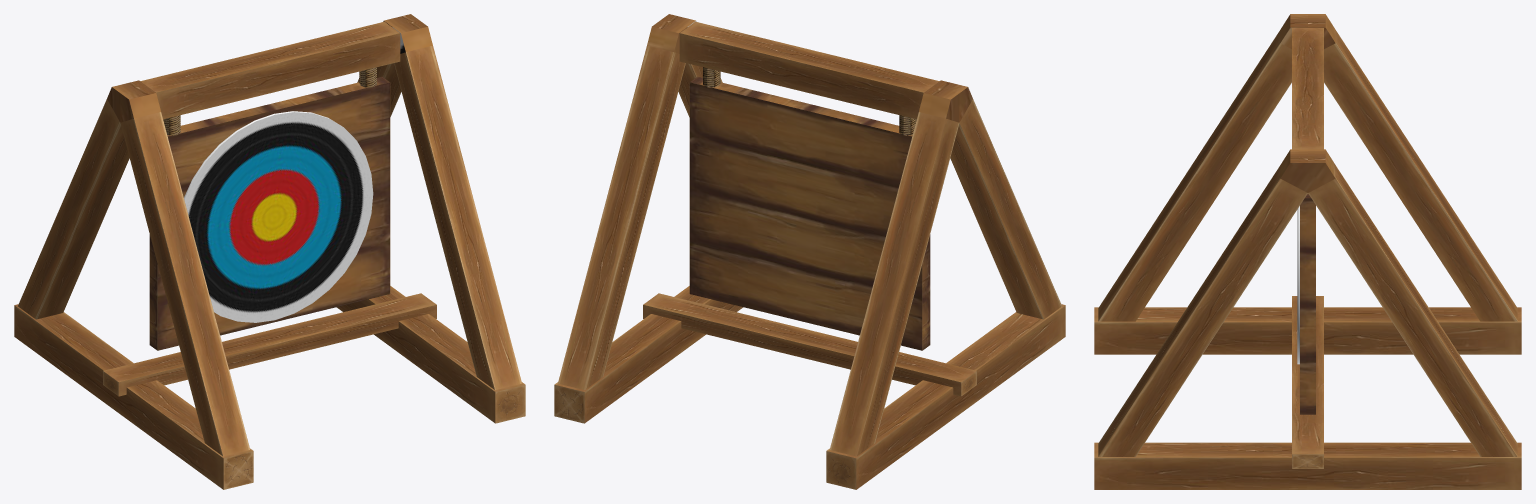
Rendered from target-light.glb.
The picture shows the model from 3 angles, left to right: view 1: azimuth 30°, elevation 25°; view 2: azimuth 150°, elevation 25°; view 3: azimuth 270°, elevation 25°; orthographic projection. The views are drawn at different scales.
Parts seen in each view (by area): view 1: Cube.003_0, Cube.004_1; view 2: Cube.003_0, Cube.004_1; view 3: Cube.003_0, Cube.004_1.
Part boxes in pixels (x1,y1,x2,y2): Cube.003_0: (14, 14, 525, 489); Cube.004_1: (149, 67, 390, 350); Cube.003_0: (554, 14, 1065, 489); Cube.004_1: (689, 67, 930, 350); Cube.003_0: (1094, 14, 1521, 489); Cube.004_1: (1297, 193, 1315, 414).
Bounding box in the file's own units: 1.05 × 1.01 × 1.2.
Materials: 1 (1 with a texture image).
